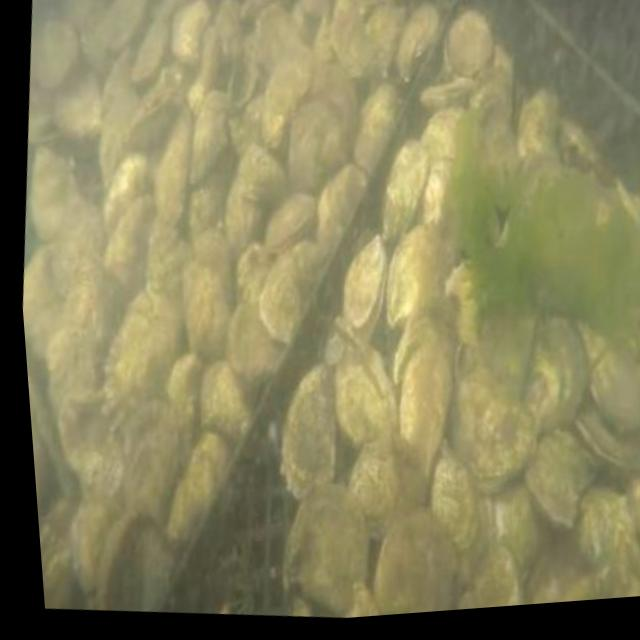Oyster-Closed: (521, 425, 598, 529), (573, 408, 640, 466), (392, 305, 441, 381), (70, 499, 108, 594), (443, 11, 491, 74), (419, 76, 472, 110)
Oyster-Indeterminate: (106, 293, 181, 430), (284, 483, 367, 606), (451, 367, 530, 487), (377, 505, 455, 615), (349, 437, 425, 542), (526, 314, 586, 441), (399, 346, 452, 480), (168, 426, 226, 542), (409, 105, 463, 228), (285, 362, 334, 496), (122, 401, 180, 511), (335, 344, 398, 441), (471, 87, 520, 205), (263, 40, 313, 150), (103, 45, 140, 179), (429, 438, 476, 542), (47, 328, 98, 423), (22, 245, 63, 361), (101, 198, 151, 293), (52, 197, 101, 293), (290, 101, 343, 189), (381, 138, 427, 239), (148, 220, 194, 318), (311, 66, 358, 161), (185, 264, 229, 365), (153, 105, 190, 224), (458, 539, 520, 610), (576, 488, 633, 565), (591, 350, 640, 434), (105, 154, 155, 236), (29, 153, 74, 244), (386, 229, 428, 325), (228, 300, 280, 375), (525, 544, 587, 604), (200, 359, 247, 438), (60, 267, 105, 349), (260, 247, 300, 339), (320, 163, 362, 249), (56, 71, 103, 147), (393, 1, 438, 80), (353, 86, 394, 172), (192, 230, 232, 315), (225, 178, 262, 269), (191, 90, 230, 176), (332, 9, 378, 81), (269, 189, 319, 254), (125, 81, 173, 145), (254, 5, 297, 76), (33, 23, 78, 86), (237, 144, 288, 199), (605, 525, 640, 599), (172, 0, 213, 63), (236, 240, 271, 313), (187, 28, 218, 110), (367, 5, 406, 70), (519, 87, 553, 160), (167, 354, 202, 422), (133, 20, 166, 83), (557, 564, 607, 602), (100, 0, 143, 43), (215, 0, 242, 57), (189, 186, 216, 237), (331, 0, 359, 31), (627, 483, 640, 534)
Oyster-Open: (345, 235, 385, 345)
